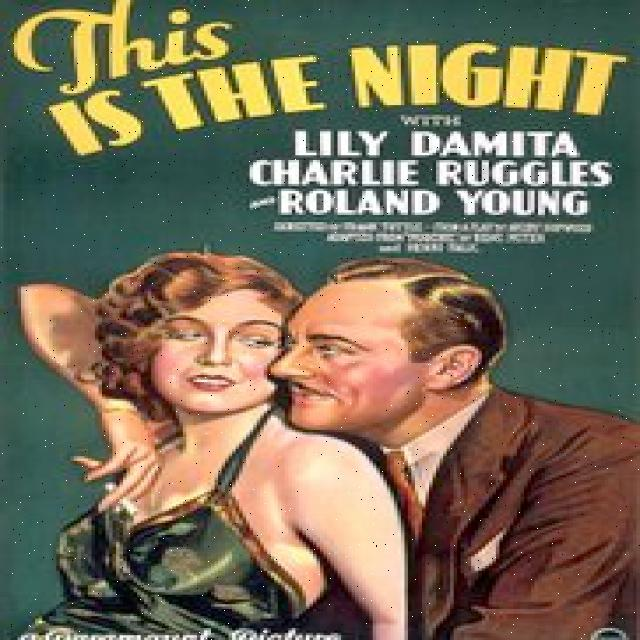movie-judul: (11, 0, 634, 158)
picture: (0, 250, 636, 637)
